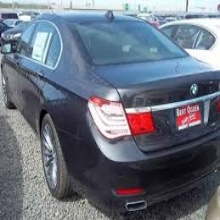no damage: (1, 10, 220, 214)
